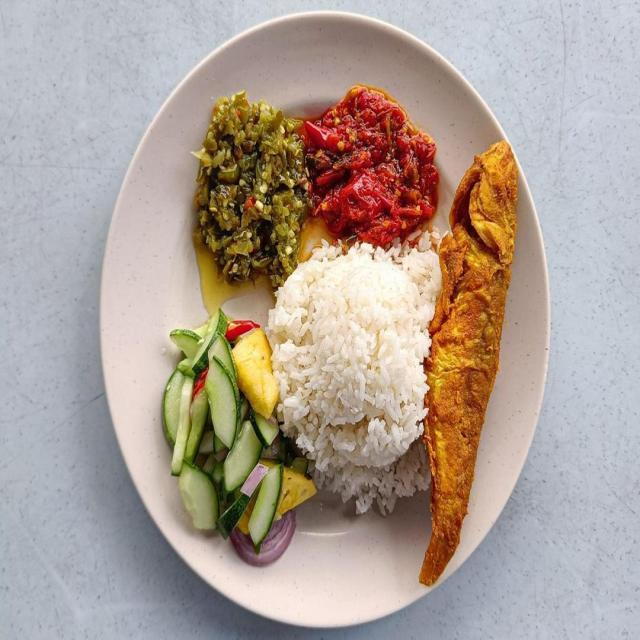Fish: (421, 144, 518, 584)
Plate: (100, 12, 505, 626)
Rice: (268, 246, 435, 498)
Vegetables: (167, 313, 314, 566)
